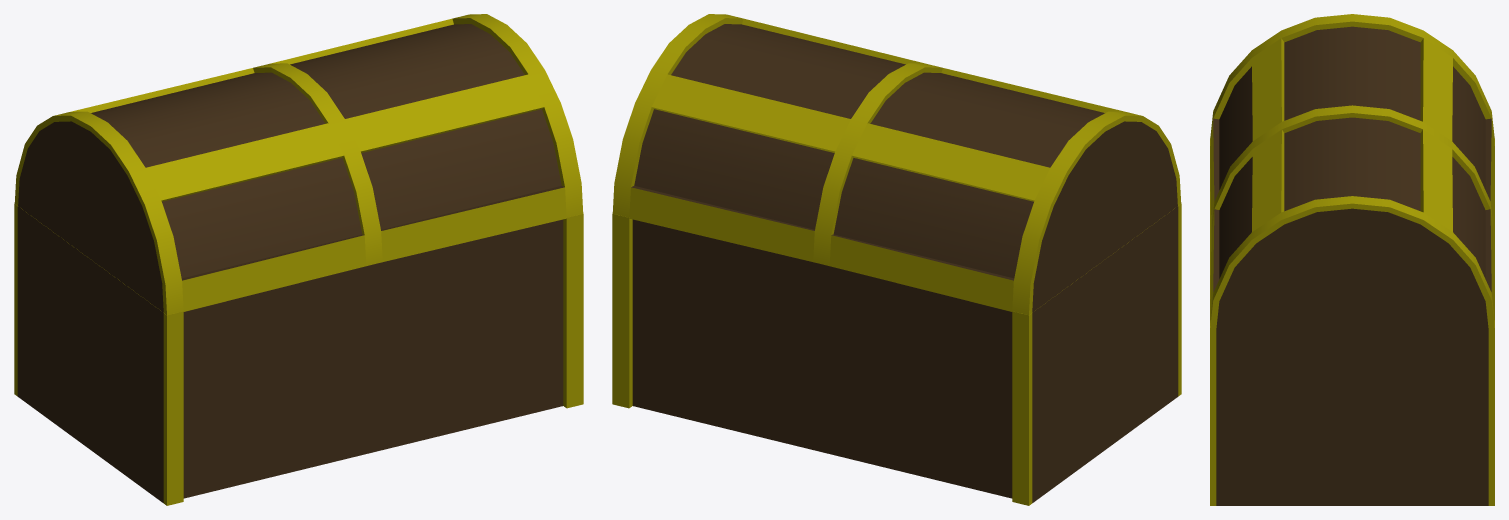
The model's file is cofre.fbx.
The picture shows the model from 3 angles, left to right: view 1: azimuth 30°, elevation 25°; view 2: azimuth 150°, elevation 25°; view 3: azimuth 270°, elevation 25°; orthographic projection. The views are drawn at different scales.
Visible parts, largest first — view 1: pCylinder1, pCube1; view 2: pCylinder1, pCube1; view 3: pCylinder1, pCube1.
Part boxes in pixels (x1,y1,x2,y2): pCylinder1: (14, 14, 583, 315); pCube1: (14, 204, 583, 505); pCylinder1: (612, 14, 1181, 315); pCube1: (612, 204, 1181, 505); pCylinder1: (1210, 14, 1494, 327); pCube1: (1210, 138, 1494, 505).
Bounding box in the file's own units: 9.9 × 7.36 × 6.28.
